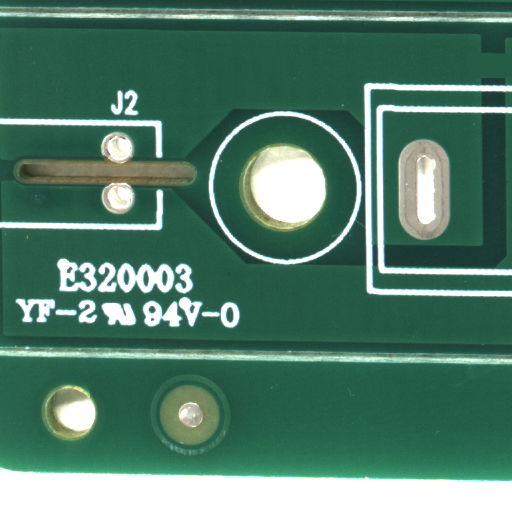Short: (489, 64, 512, 103)
